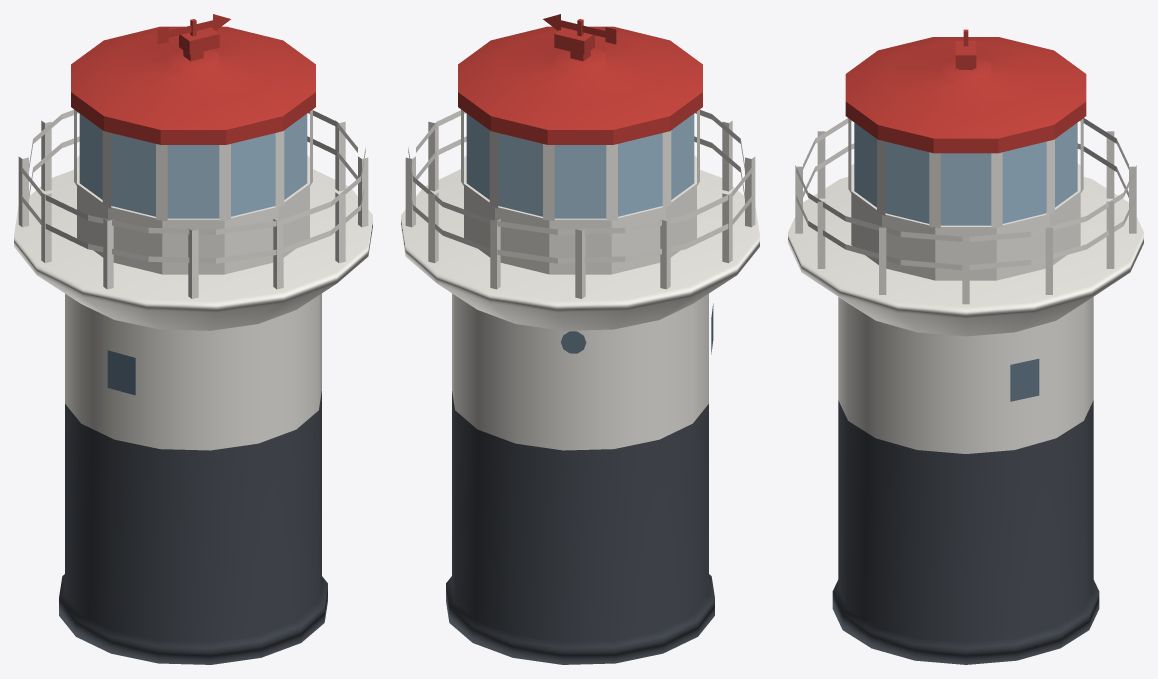
Rendered from cpt-cape-point-lighthouse.glb.
3 renders of one model, left to right at view 1: azimuth 30°, elevation 25°; view 2: azimuth 150°, elevation 25°; view 3: azimuth 270°, elevation 25°, orthographic.
Parts seen in each view (by area): view 1: Cape Point Old Lighthouse; view 2: Cape Point Old Lighthouse; view 3: Cape Point Old Lighthouse.
Boxes of the visible parts, x1,y1,x2,y2 form: Cape Point Old Lighthouse: (14,14,372,664); Cape Point Old Lighthouse: (401,14,759,664); Cape Point Old Lighthouse: (788,29,1143,664).
Bounding box in the file's own units: 4.8 × 8.62 × 4.8.
